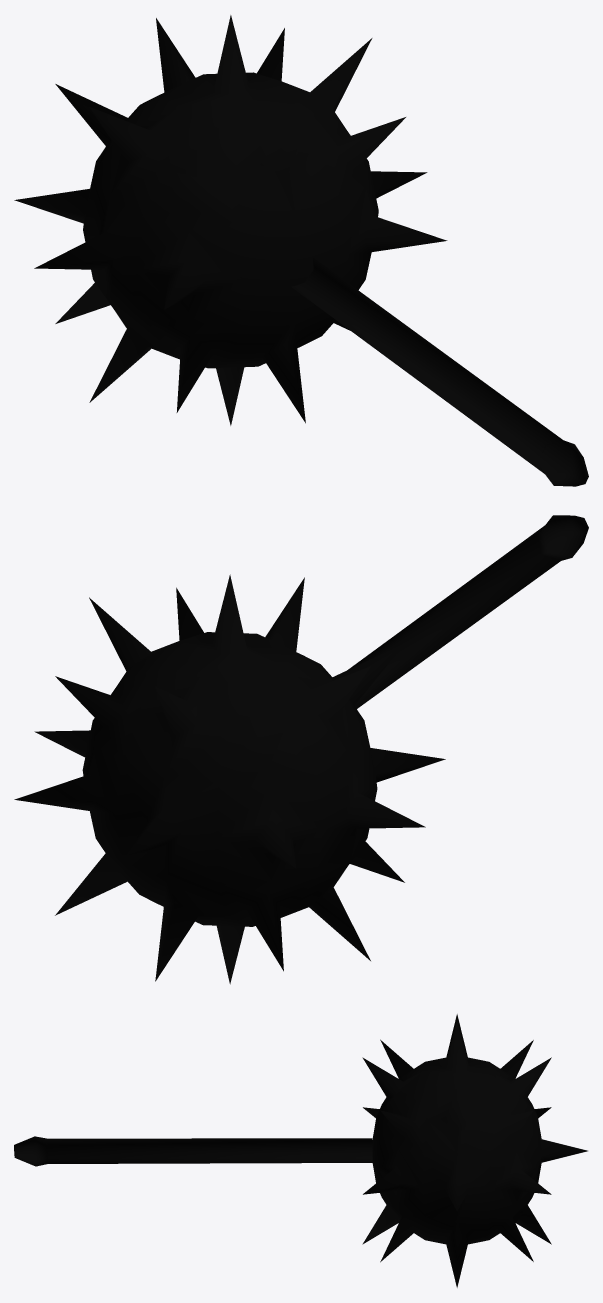
File: mace.obj
3 renders of one model, top to bottom at view 1: azimuth 30°, elevation 25°; view 2: azimuth 150°, elevation 25°; view 3: azimuth 270°, elevation 25°, orthographic. The views are drawn at different scales.
Visible parts, largest first — view 1: Cube; view 2: Cube; view 3: Cube.
Boxes of the visible parts, left/top/right/bottom form: Cube: left=14, top=15, right=588, bottom=486; Cube: left=14, top=515, right=588, bottom=984; Cube: left=14, top=1014, right=587, bottom=1287.
Size of the model in its own units: 1 by 1 by 2.
